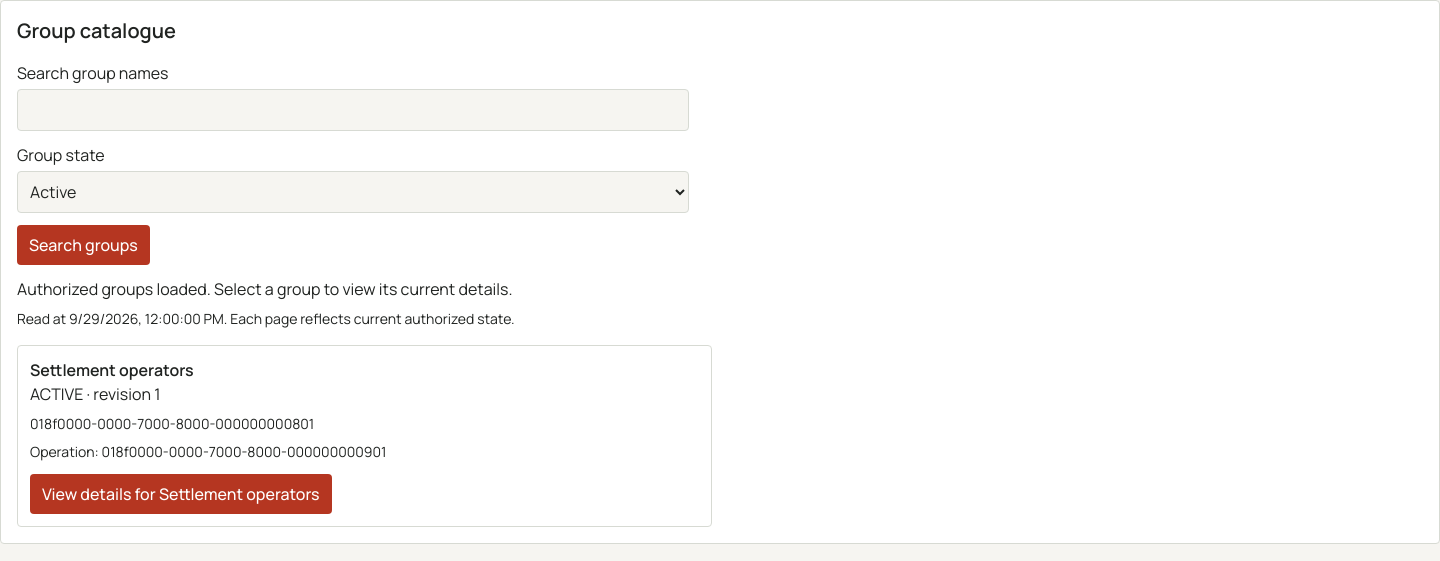
removes a previously displayed group on current denial
This screenshot has width=1440, height=561.
Expected: the heading "Settlement operators" is shown, [30,359,194,381]
Click the button "Search groups" at (83, 245), box [17,225,150,265]
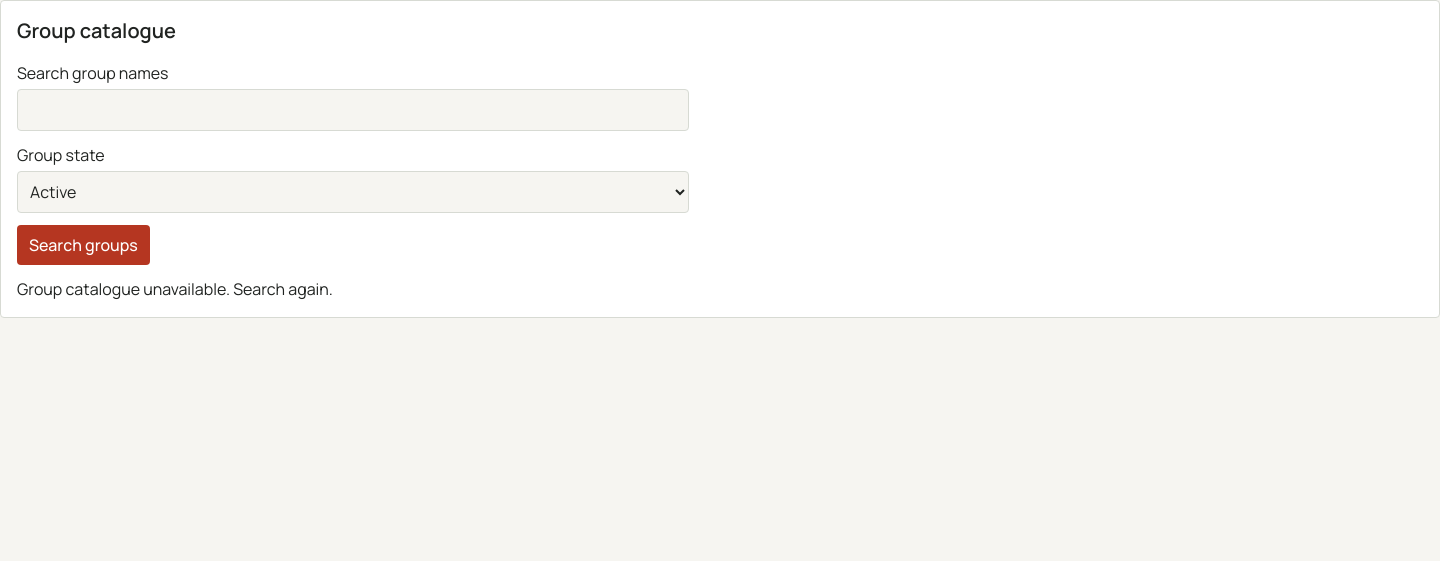
Result: the text "Group catalogue unavailable. Search again." is shown at [17,278,333,300]
Result: the heading "Settlement operators" is gone
